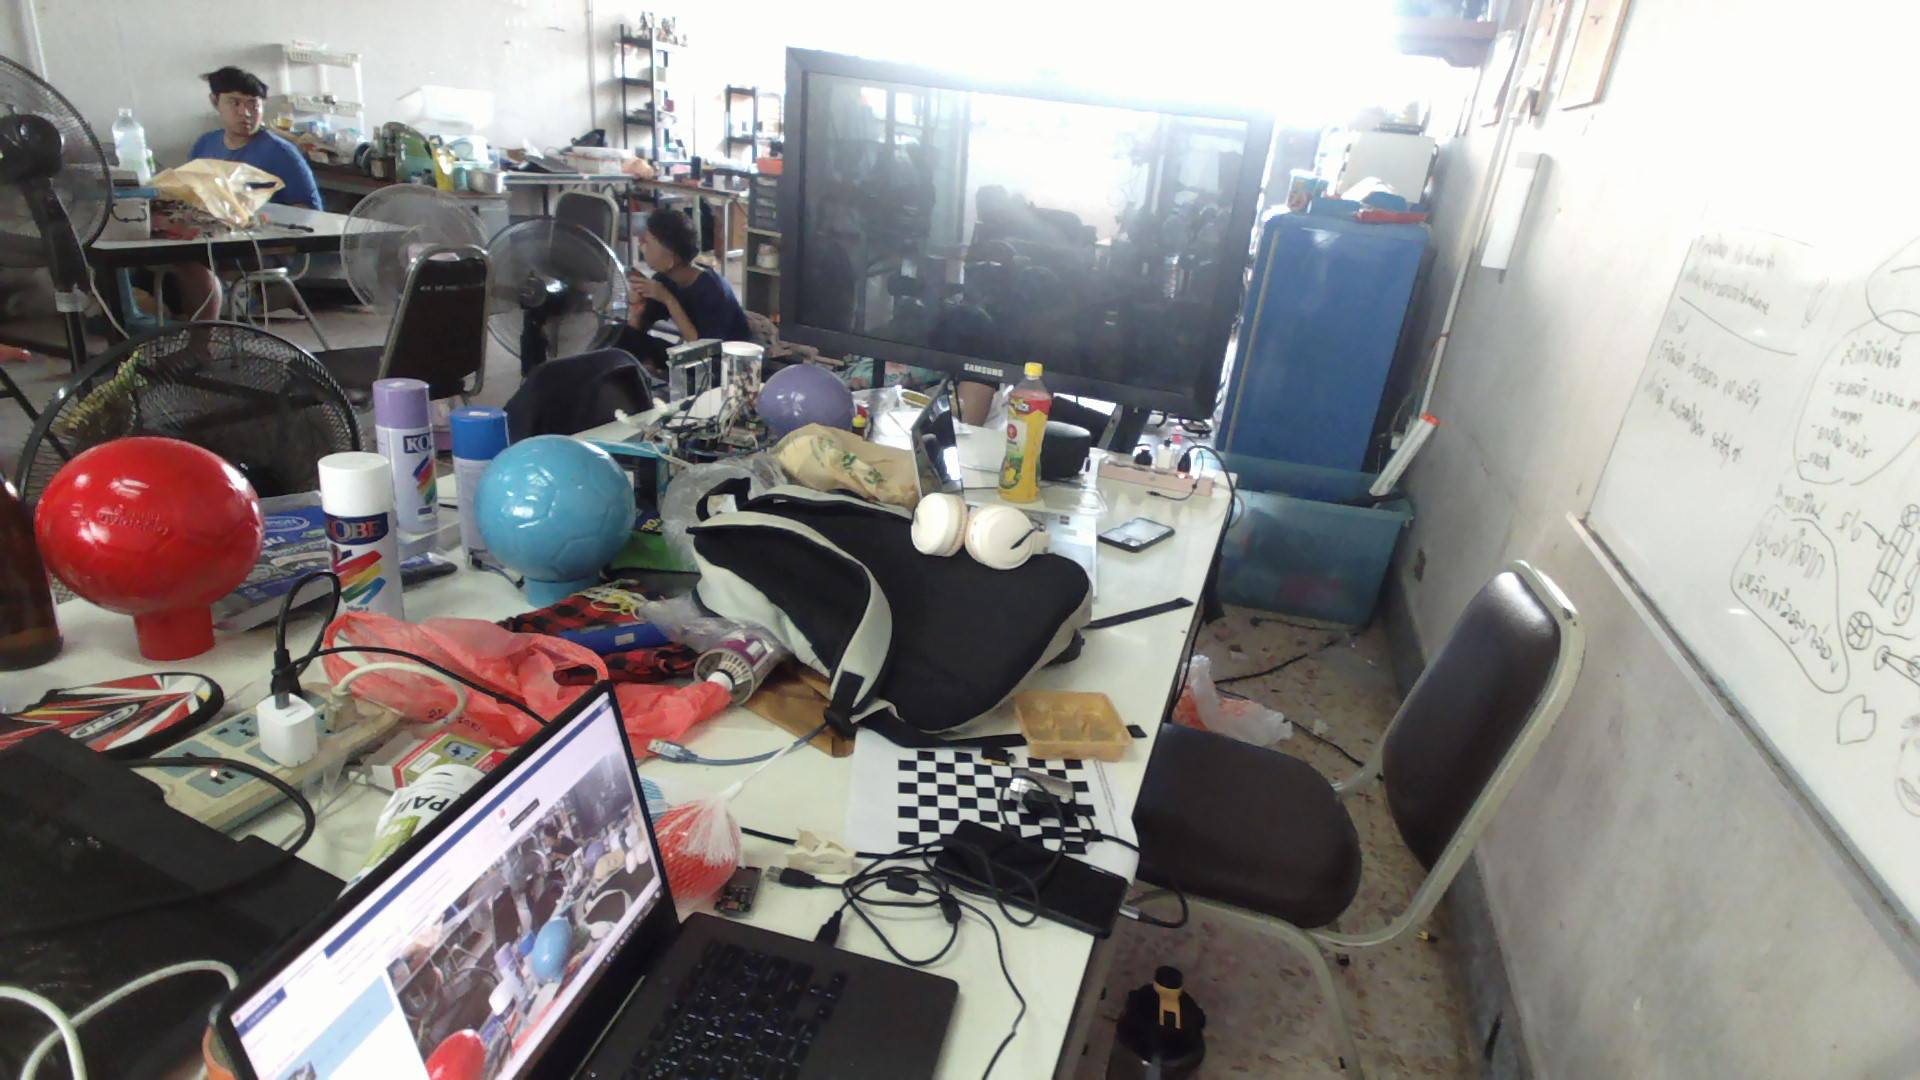Blue ball: (473, 433, 636, 584)
Purple ball: (753, 363, 856, 440)
Red ball: (29, 433, 266, 617)
